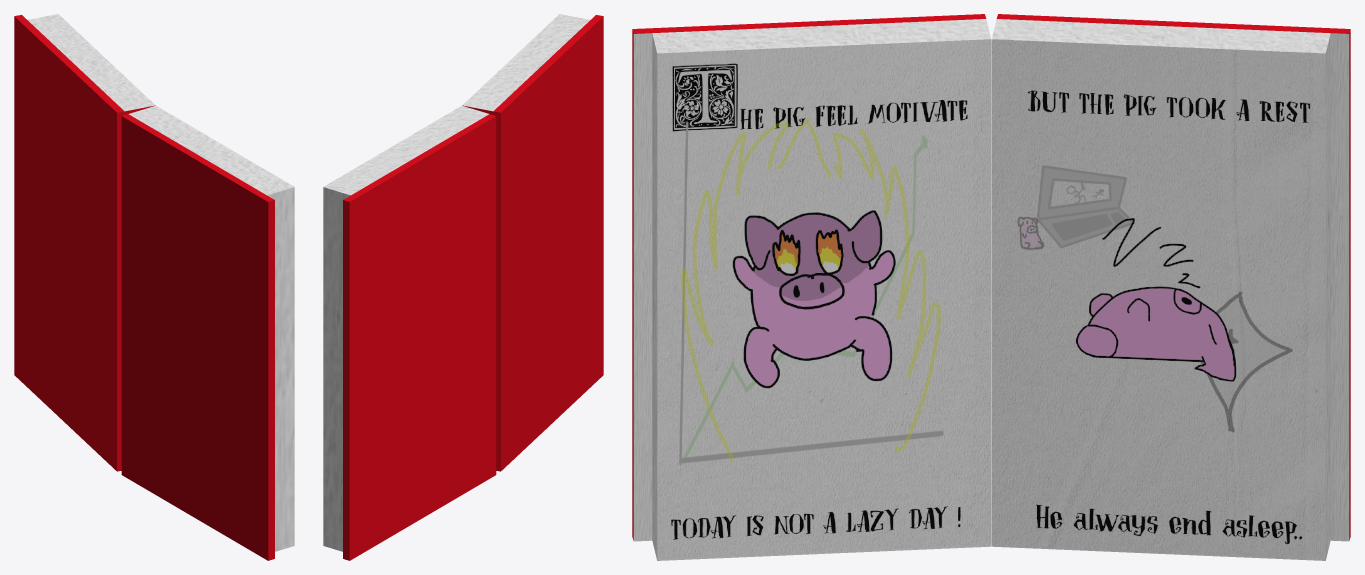
File: OpenBook.fbx
3 views of the same model, side by side, from view 1: azimuth 30°, elevation 25°; view 2: azimuth 150°, elevation 25°; view 3: azimuth 270°, elevation 25° (orthographic). The views are drawn at different scales.
Visible parts, largest first — view 1: Livre ouvert_1; view 2: Livre ouvert_1; view 3: Livre ouvert_1.
Part boxes in pixels (<box>): Livre ouvert_1: <box>14,14,294,560</box>; Livre ouvert_1: <box>323,14,603,560</box>; Livre ouvert_1: <box>632,14,1350,560</box>.
Size of the model in its own units: 33.36 by 200 by 257.
